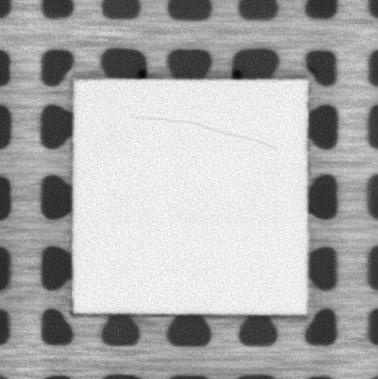DIE_CRACK: (131, 114, 277, 151)
